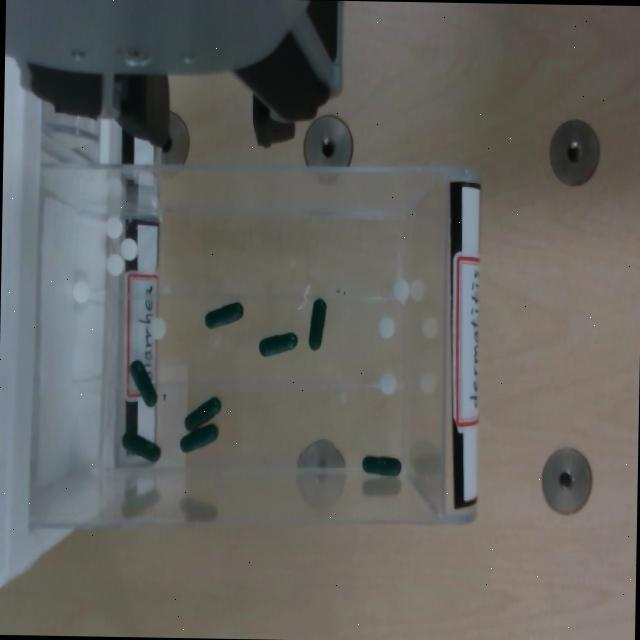ganakan_tab: (71, 277, 90, 303), (378, 371, 397, 396), (104, 215, 123, 239), (119, 238, 138, 261), (378, 316, 396, 340), (105, 254, 123, 276), (393, 279, 410, 302), (149, 317, 166, 339)
monodoxy_cap: (128, 358, 157, 407), (184, 396, 221, 433), (121, 430, 161, 464), (204, 301, 244, 332), (179, 424, 219, 455), (122, 432, 160, 463), (131, 361, 157, 406), (185, 398, 221, 430), (258, 330, 297, 359), (307, 298, 327, 352), (181, 424, 218, 452), (206, 302, 243, 328), (362, 454, 402, 478), (309, 299, 326, 350), (260, 333, 297, 356), (363, 457, 401, 477)
